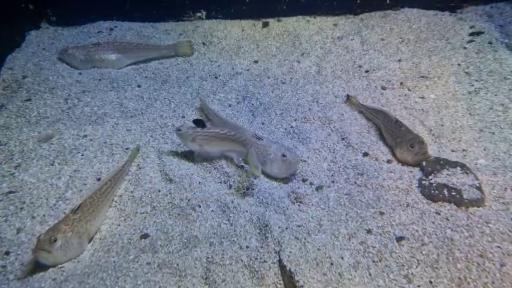Fish: (22, 145, 139, 278), (193, 99, 300, 178), (346, 95, 431, 166), (176, 125, 261, 177), (57, 39, 194, 70), (193, 119, 206, 128)
